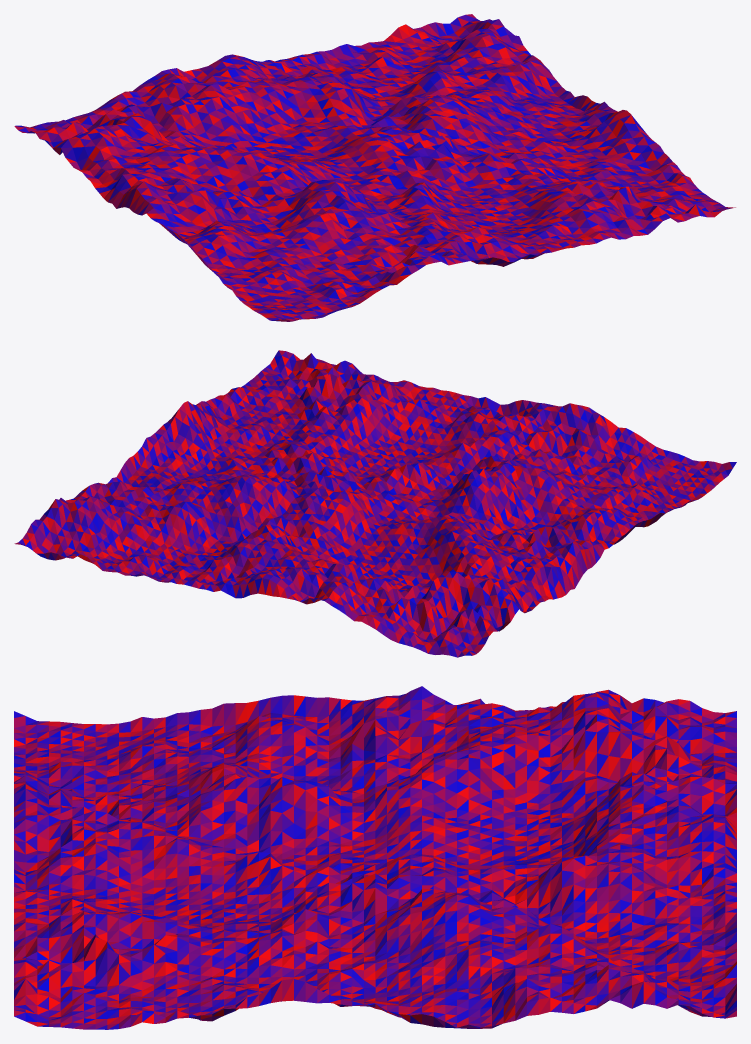
Rendered from terrain.glb.
The picture shows the model from 3 angles, top to bottom: view 1: azimuth 30°, elevation 25°; view 2: azimuth 150°, elevation 25°; view 3: azimuth 270°, elevation 25°; orthographic projection. The views are drawn at different scales.
Visible parts, largest first — view 1: Plane; view 2: Plane; view 3: Plane.
Boxes of the visible parts, x1,y1,x2,y2 form: Plane: [14, 14, 735, 321]; Plane: [14, 350, 736, 657]; Plane: [14, 686, 736, 1029].
Size of the model in its own units: 21.76 by 1.95 by 21.76.
Materials: 1 (1 with a texture image).
